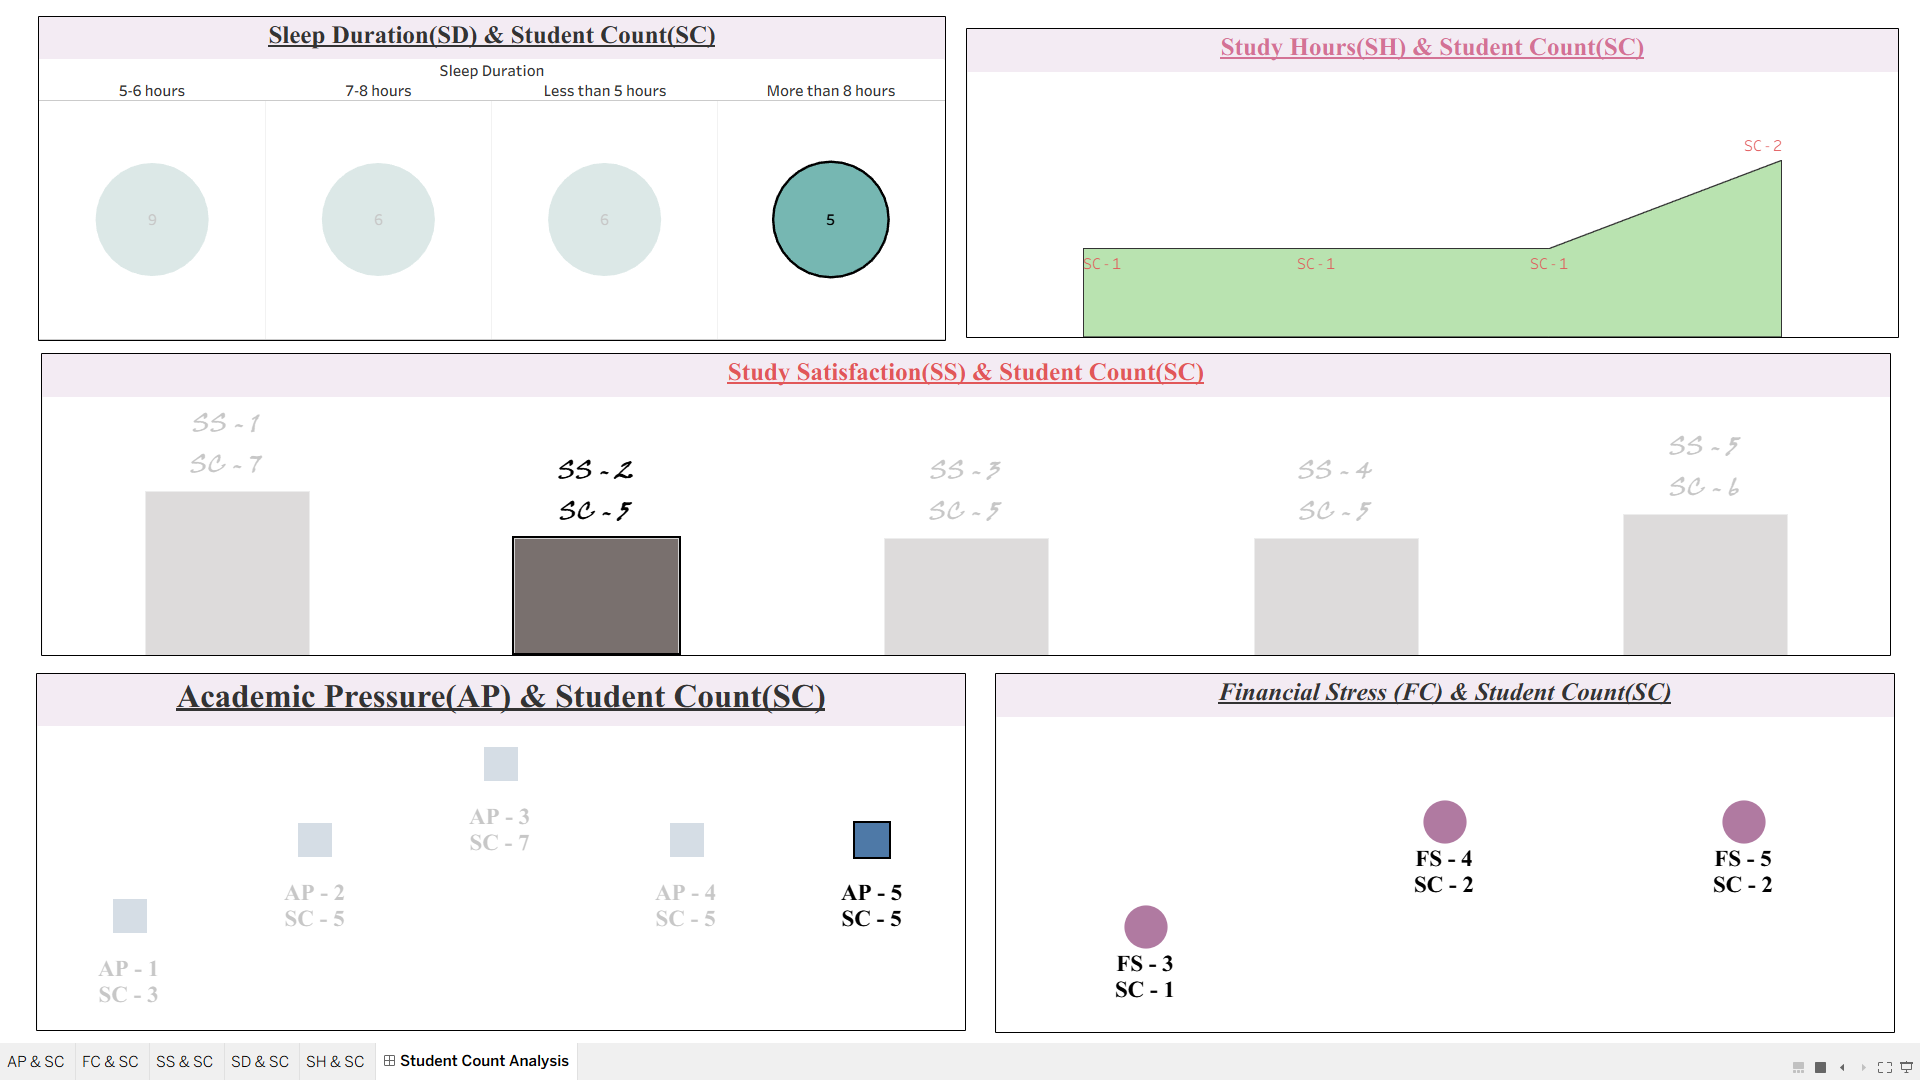

The page's visual inventory and layout, read from the dashboard file:
{"tool":"tableau","page":{"name":"Student Count Analysis","canvas":[1000,1000],"units":"permille","ordinal":0},"visuals":[{"type":"worksheet","title":"SD & SC","mark":"Pie","cols":["Sleep_Duration"],"box":[19.9,15.3,473.1,311.4]},{"type":"worksheet","title":"SH & SC","mark":"Area","rows":["Index_Column"],"cols":["Study_Hours"],"box":[503.3,27,485.8,297.3]},{"type":"worksheet","title":"SS & SC","mark":"Automatic","rows":["Index_Column"],"cols":["Study_Satisfaction"],"box":[21.1,338.4,963.8,290.2]},{"type":"worksheet","title":"AP & SC","mark":"Square","rows":["Index_Column"],"cols":["Academic_Pressure"],"box":[18.7,645.1,484.6,343.1]},{"type":"worksheet","title":"FC & SC","mark":"Circle","rows":["Index_Column"],"cols":["Financial_Stress"],"box":[518.4,645.1,468.9,345.5]}]}

Visuals, with their boxes on the dashboard's canvas, which has no fixed pixel size, in thousandths of its width and height (x1, y1, x2, y2). These are canvas units, not pixel positions in the 1920x1080 screenshot, which may show the page scaled, cropped or inside an application window:
"SD & SC" worksheet (Pie marks): 20:15:493:327
"SH & SC" worksheet (Area marks): 503:27:989:324
"SS & SC" worksheet: 21:338:985:629
"AP & SC" worksheet (Square marks): 19:645:503:988
"FC & SC" worksheet (Circle marks): 518:645:987:991
